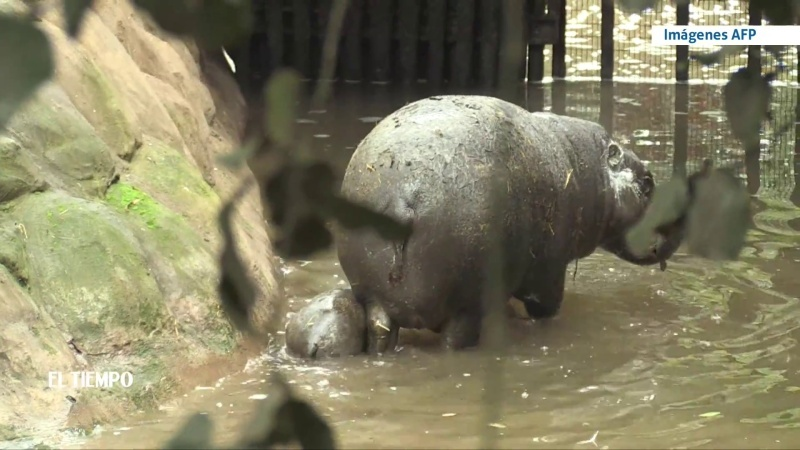hipopotamo: (332, 86, 703, 356), (271, 268, 381, 381)
